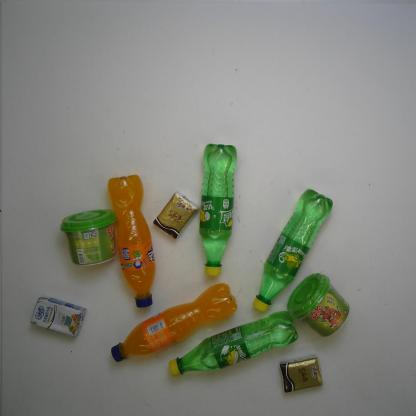Drink: (106, 280, 241, 367), (250, 186, 334, 320), (166, 309, 300, 380), (106, 170, 158, 312), (197, 139, 239, 278)
Instant Drink: (286, 271, 354, 342), (55, 208, 120, 269)
Milk: (26, 295, 89, 340)
Tissue: (150, 190, 198, 244), (276, 354, 326, 395)
